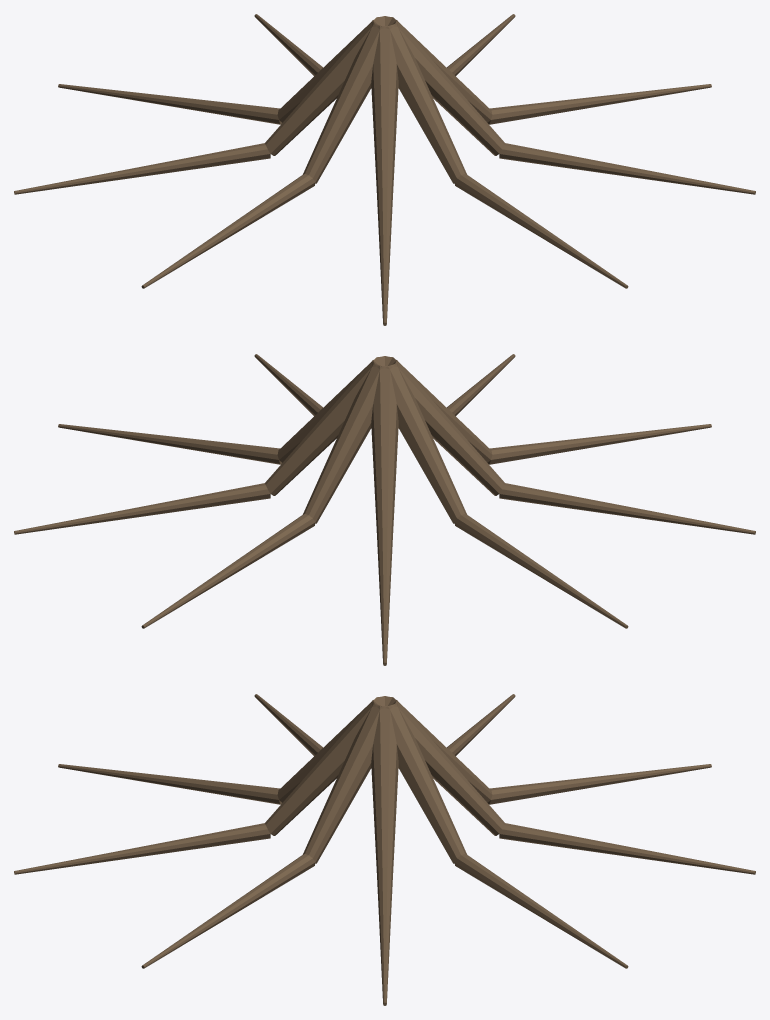
File: dungeon_roots.glb
3 renders of one model, top to bottom at view 1: azimuth 30°, elevation 25°; view 2: azimuth 150°, elevation 25°; view 3: azimuth 270°, elevation 25°, orthographic.
Parts seen in each view (by area): view 1: Body.033; view 2: Body.033; view 3: Body.033.
Part boxes in pixels (left/top/right/bottom): Body.033: left=14, top=14, right=755, bottom=325; Body.033: left=14, top=354, right=755, bottom=665; Body.033: left=14, top=694, right=755, bottom=1005.
Size of the model in its own units: 3.11 by 0.6837 by 3.15.
